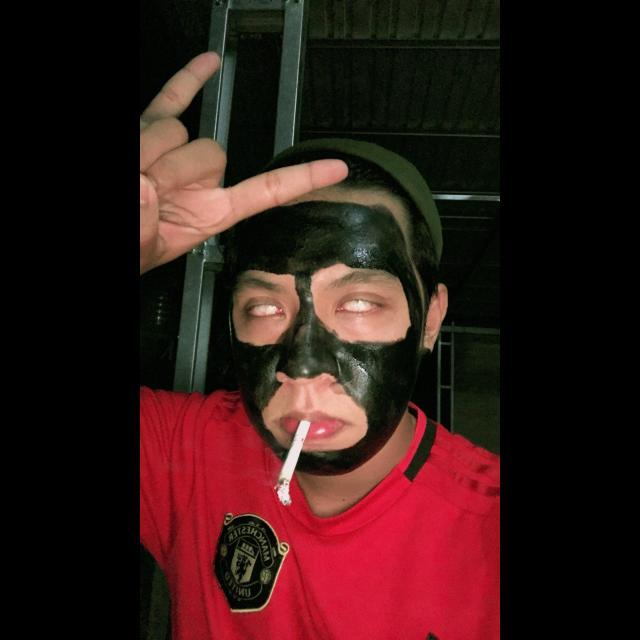rokok: (272, 416, 316, 510)
